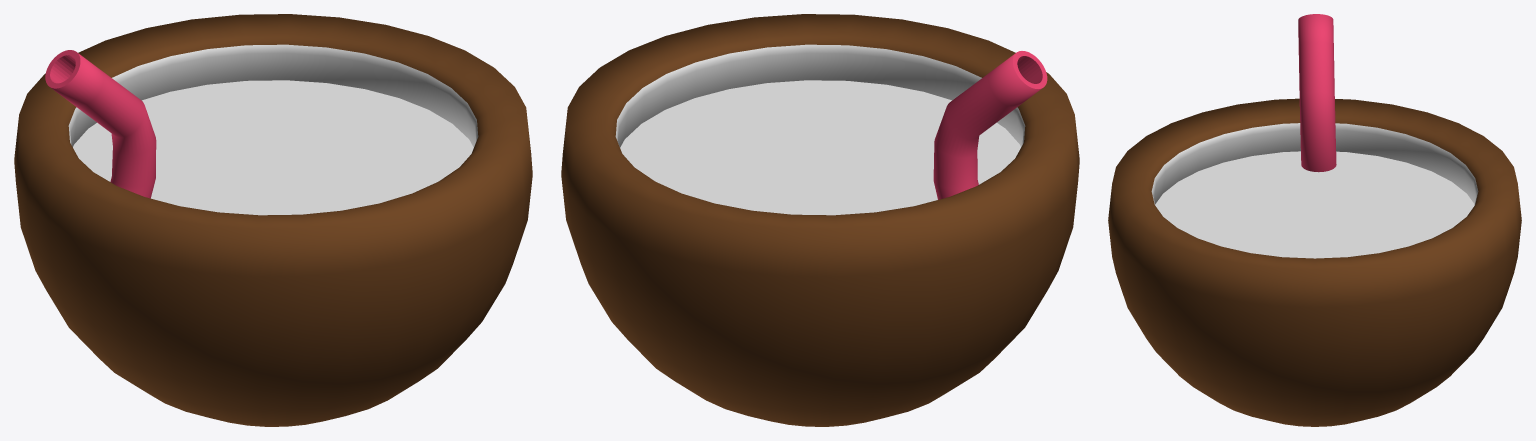
Rendered from cocodeco.fbx.
3 renders of one model, left to right at view 1: azimuth 30°, elevation 25°; view 2: azimuth 150°, elevation 25°; view 3: azimuth 270°, elevation 25°, orthographic. The views are drawn at different scales.
Parts seen in each view (by area): view 1: Sphere; view 2: Sphere; view 3: Sphere.
Part boxes in pixels (x1,y1,x2,y2): Sphere: (14, 14, 532, 426); Sphere: (561, 14, 1079, 426); Sphere: (1108, 14, 1521, 426).
Bounding box in the file's own units: 200 × 169 × 200.
